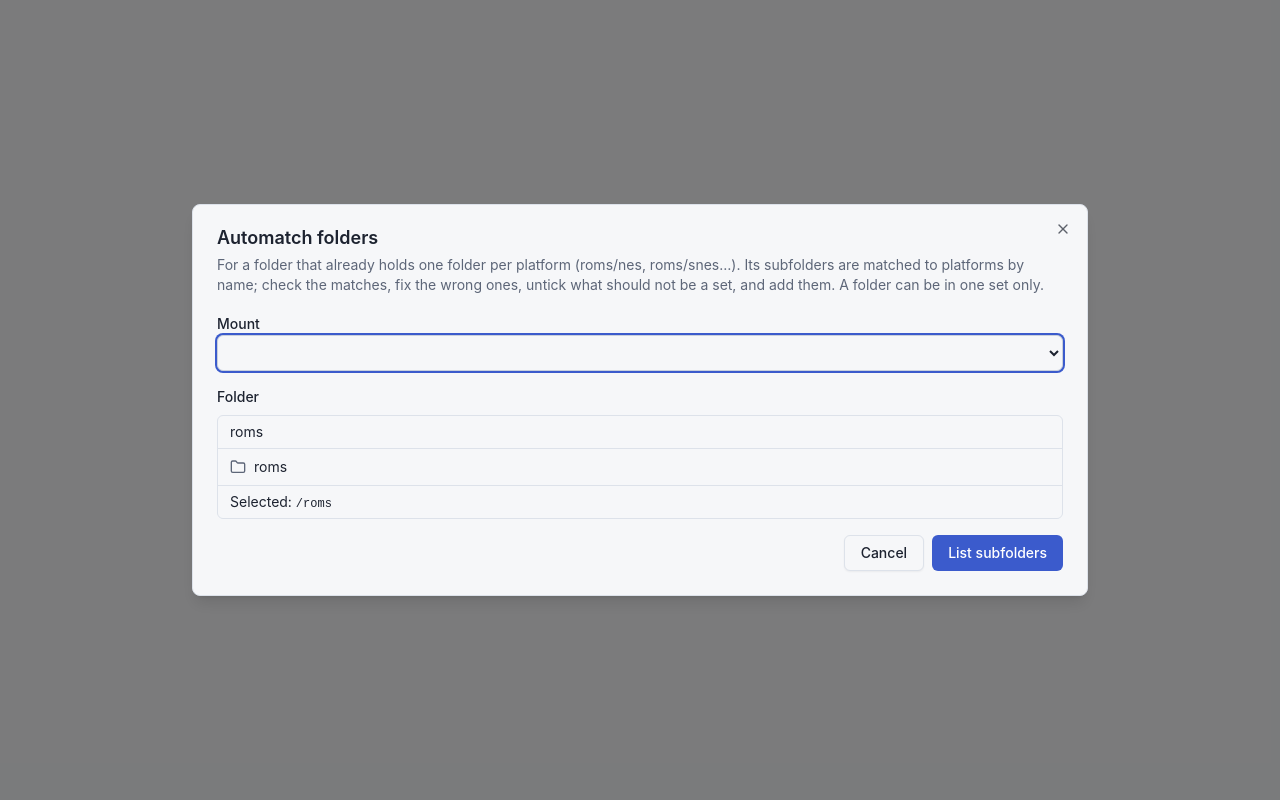
it: lists the subfolders with their matches and adds the ticked ones
This screenshot has width=1280, height=800.
Later steps or results of the test are not shown.
Click the 1st button "roms": (247, 432) [230, 422, 263, 442]
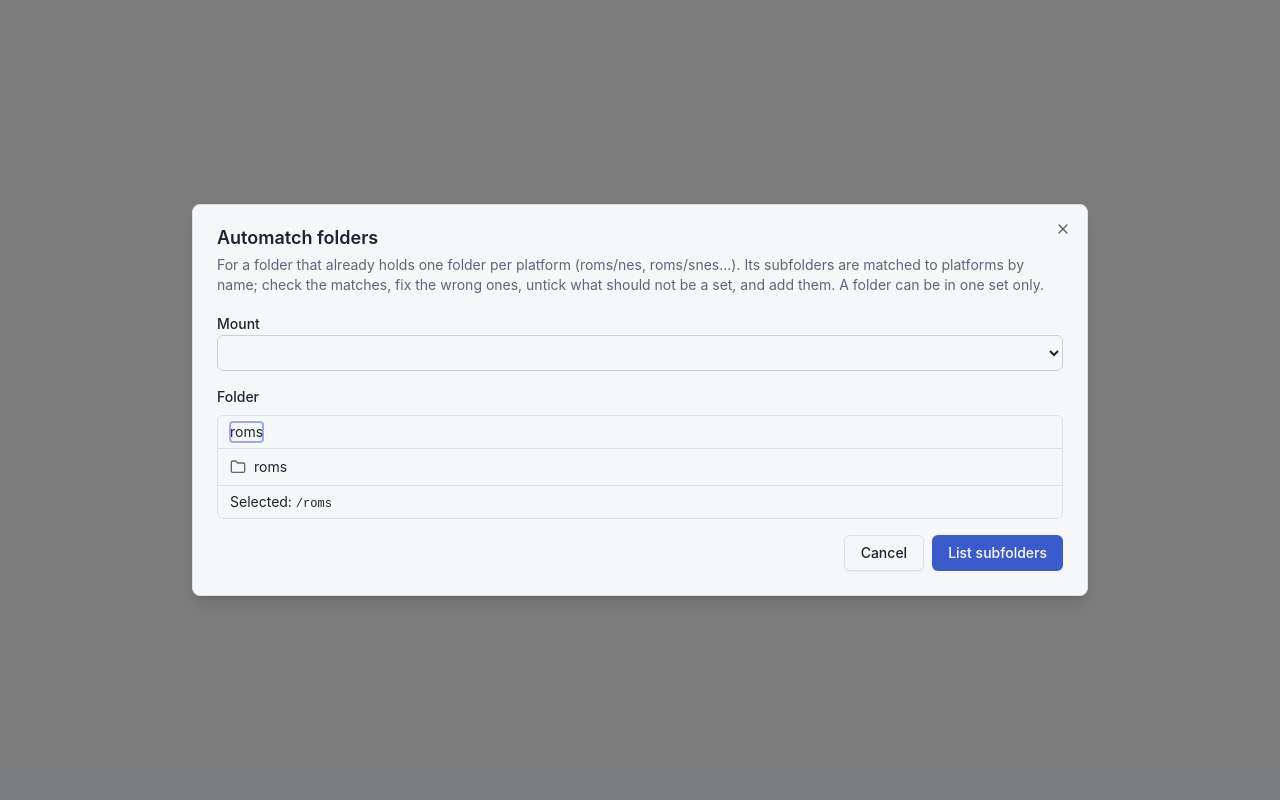
Click the button "List subfolders": (998, 553) [932, 535, 1063, 571]
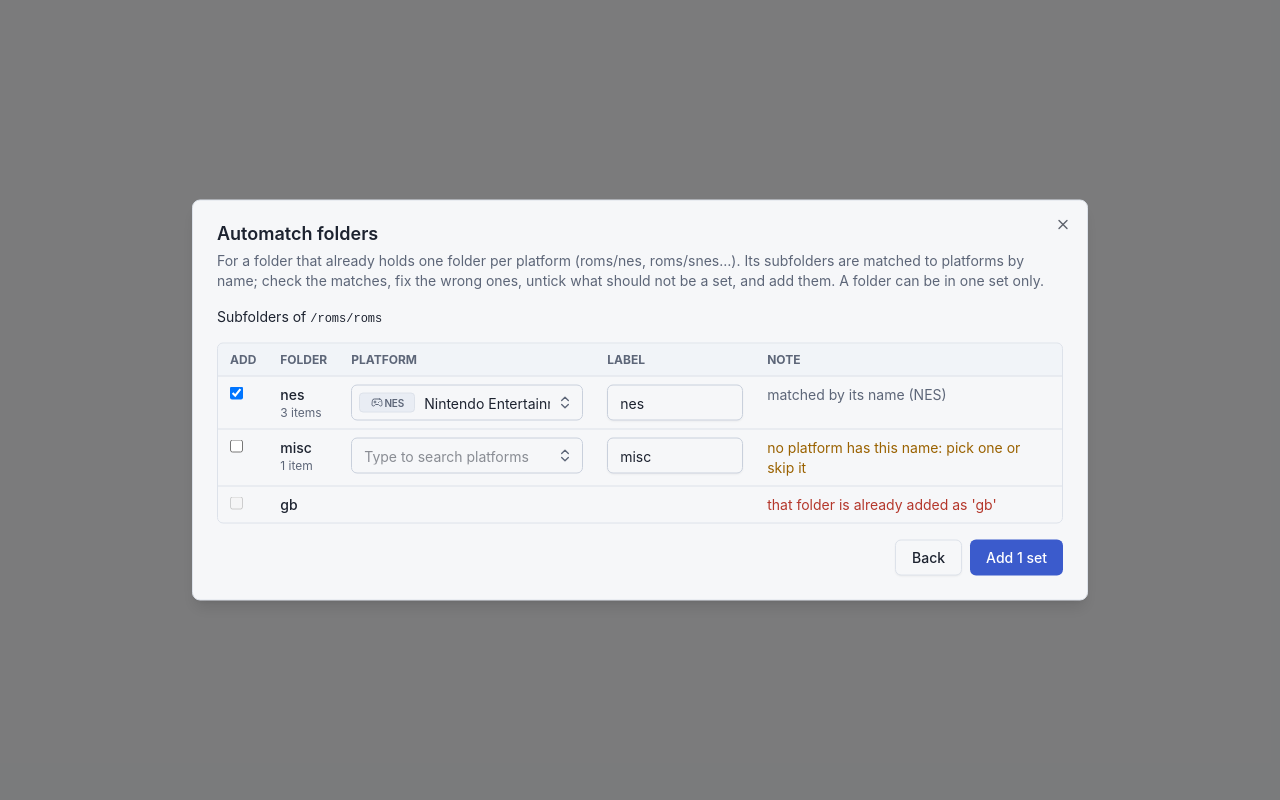
Now the checkbox named "Add nes" is checked, box [230, 386, 243, 400]
Now the checkbox named "Add misc" is not checked, box [230, 440, 243, 452]
Now the checkbox named "Add gb" is disabled, box [230, 496, 243, 510]
